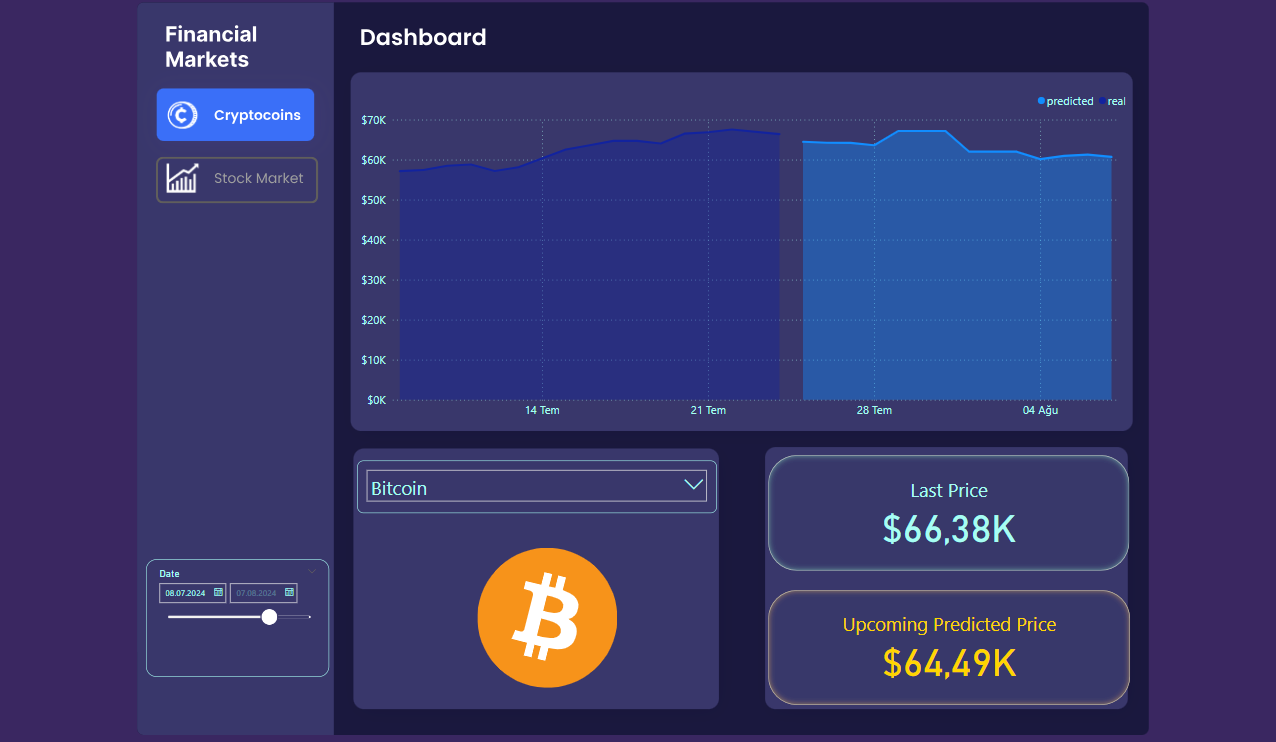

Layout of this report page (visuals, bound fields, positions):
{"tool":"powerbi","page":{"name":"cryptocoins","canvas":[1920,1080],"ordinal":1},"visuals":[{"type":"slicer","fields":{"Values":["ft_coin_price_t.datetime"]},"box":[250,808.3,261.7,168.3],"z":0},{"type":"stackedAreaChart","fields":{"Y":["Avg(Query2.price)"],"Series":["Query2.type"],"Category":["ft_coin_price_t.datetime.Variation.Date Hierarchy.Year"]},"box":[551.7,131.7,1108.3,485],"z":1000},{"type":"slicer","fields":{"Values":["dim_coin_t.name"]},"box":[551.7,668.3,513.3,75],"z":2000},{"type":"tableEx","fields":{"Values":["dim_coin_t.icon_url"]},"box":[561.7,765,503.3,258.3],"z":3000},{"type":"cardVisual","fields":{"Data":["Avg(Query2.price)"]},"box":[1133.3,655,526.7,175],"z":4000},{"type":"cardVisual","fields":{"Data":["Avg(Query2.price)"]},"box":[1132.9,848.6,527.1,174.3],"z":5000},{"type":"actionButton","box":[265,233.3,231.7,66.7],"z":6000}]}

Visuals, with their boxes on the page's 1920x1080 design canvas (x1, y1, x2, y2). These are canvas units, not pixel positions in the 1276x742 screenshot, which may show the page scaled, cropped or inside an application window:
slicer - ft_coin_price_t.datetime: <bbox>250, 808, 512, 977</bbox>
stackedAreaChart - Avg(Query2.price) x Query2.type: <bbox>552, 132, 1660, 617</bbox>
slicer - dim_coin_t.name: <bbox>552, 668, 1065, 743</bbox>
tableEx - dim_coin_t.icon_url: <bbox>562, 765, 1065, 1023</bbox>
cardVisual - Avg(Query2.price): <bbox>1133, 655, 1660, 830</bbox>
cardVisual - Avg(Query2.price): <bbox>1133, 849, 1660, 1023</bbox>
actionButton: <bbox>265, 233, 497, 300</bbox>
